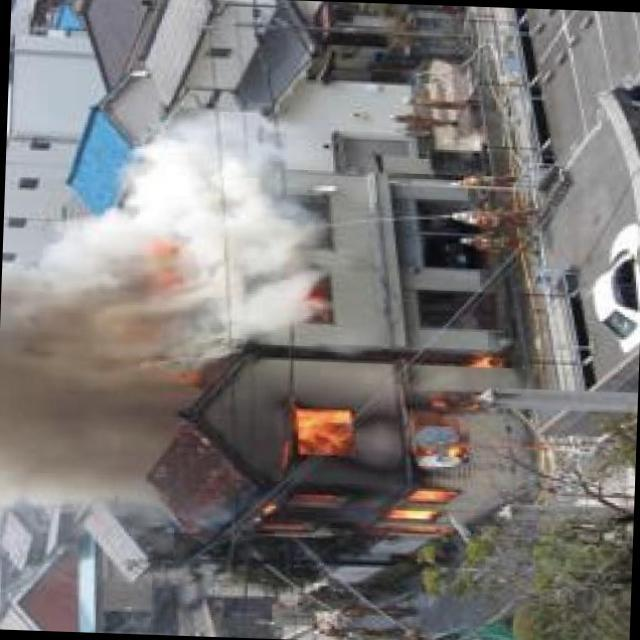Fire: (234, 337, 521, 559)
